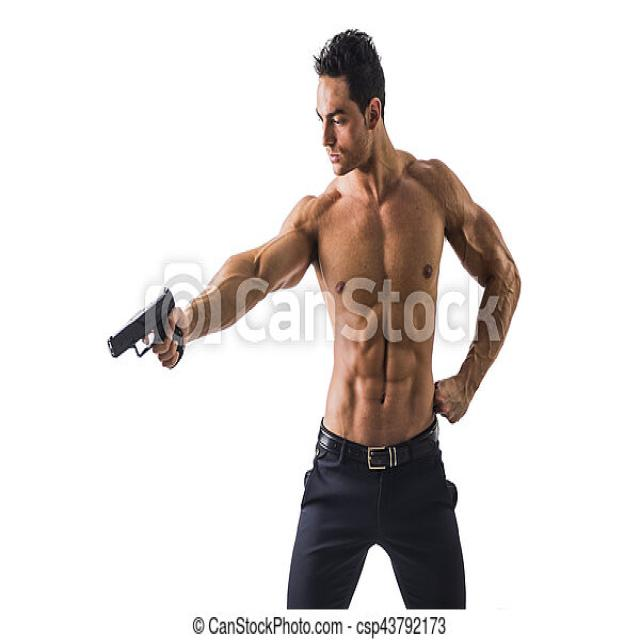HandGun: (109, 289, 181, 367)
